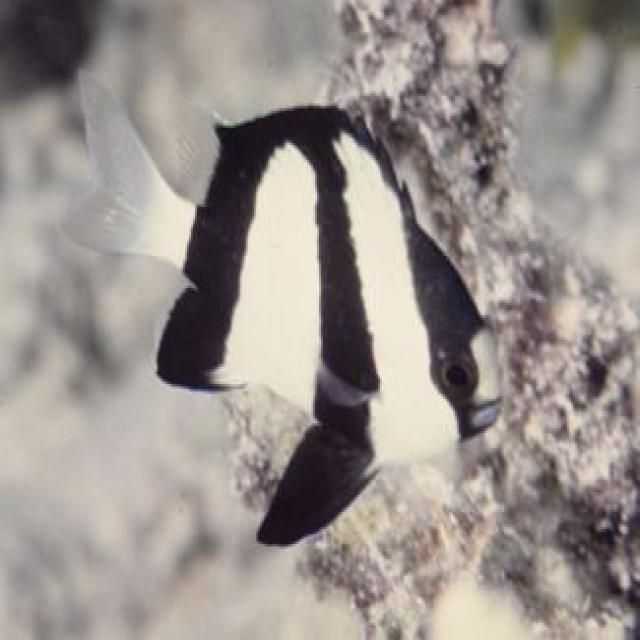ThreeStripedDamselfish: (61, 79, 502, 549)
